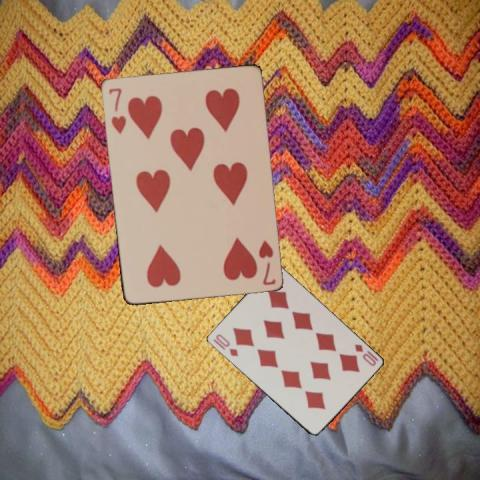10d: (213, 331, 239, 358), (352, 341, 378, 367)
7h: (106, 84, 128, 134), (255, 236, 277, 286)
